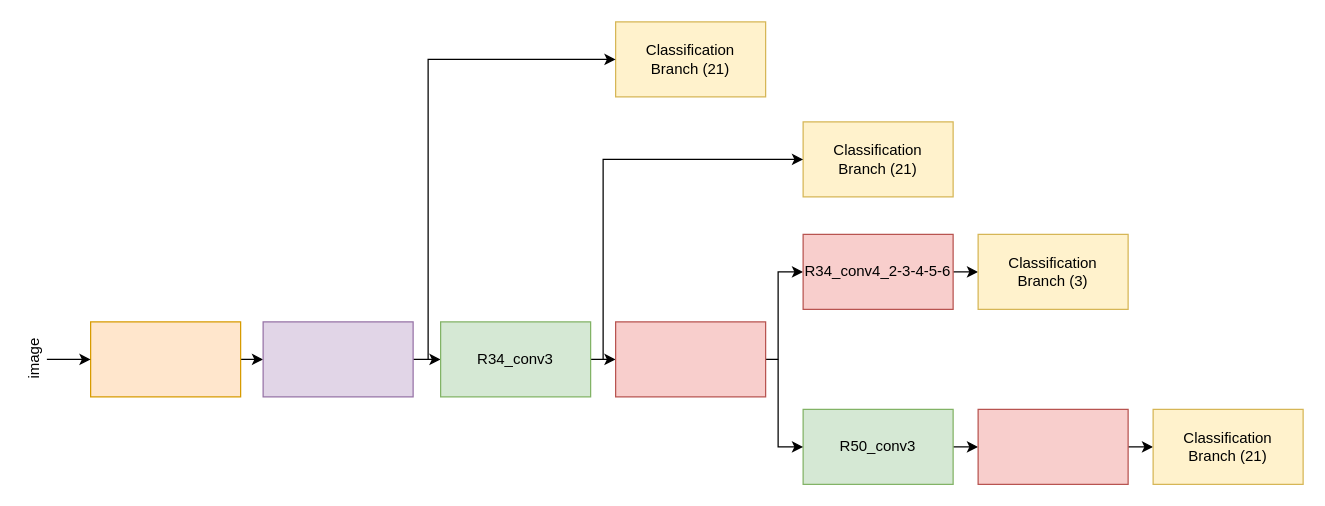
The diagram is 1325 pixels wide and 506 high, and some of its shapes have lost their labels. The centre of each missing label's shape, as x and y in pixels:
conv1: [165,359]
R34_conv2: [337,359]
R34_conv4_1: [690,359]
R50_conv4: [1052,446]
